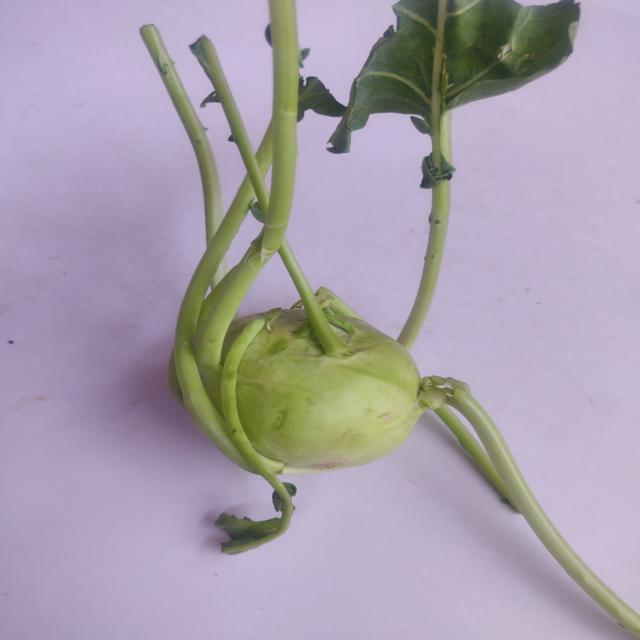Turnip: (126, 0, 600, 557)
